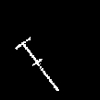double_crochet: (15, 38, 58, 90)
